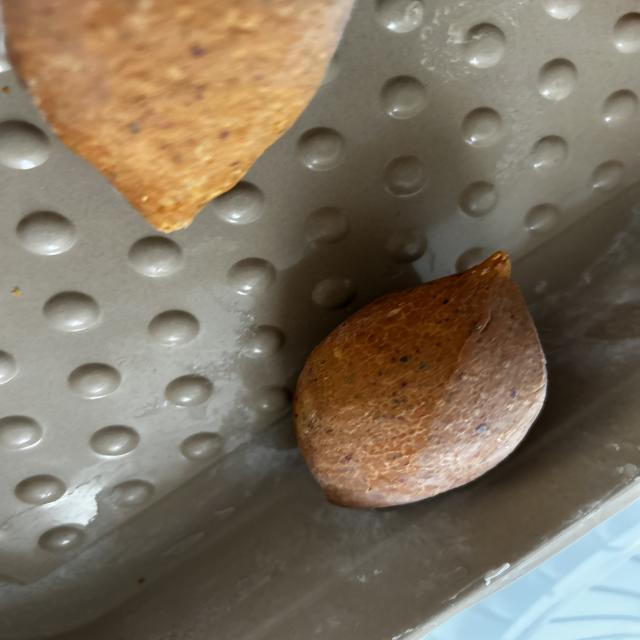kobi: (4, 2, 355, 232), (292, 250, 548, 510)
